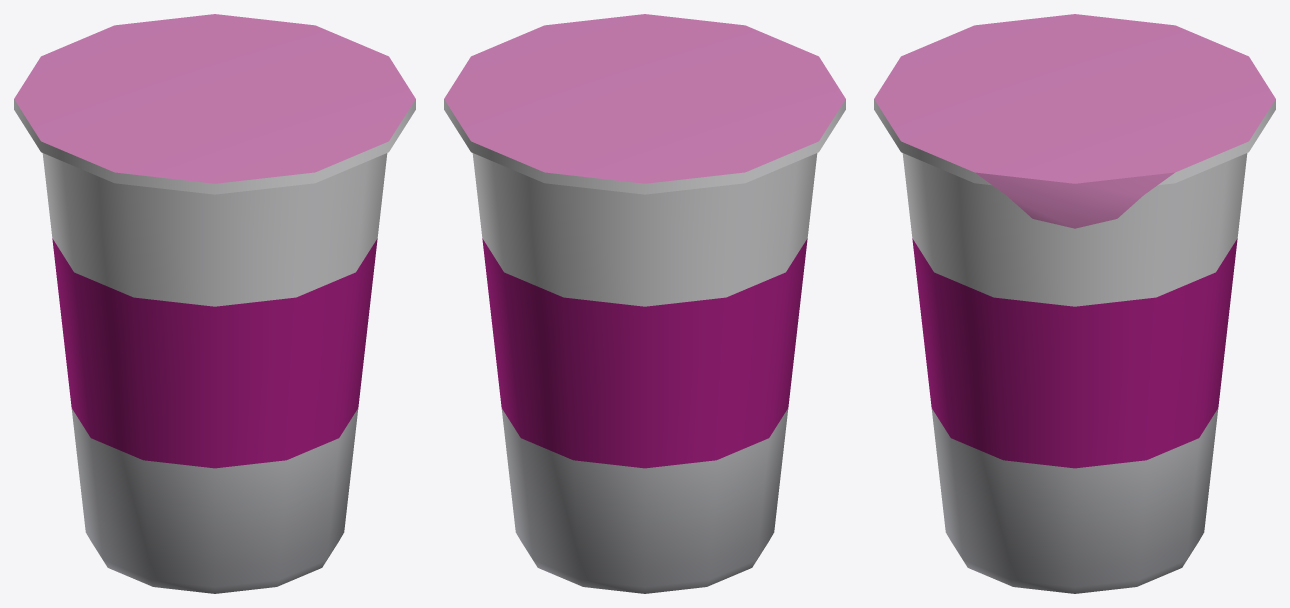
The model's file is Yogurt_big_01.fbx.
The picture shows the model from 3 angles, left to right: view 1: azimuth 30°, elevation 25°; view 2: azimuth 150°, elevation 25°; view 3: azimuth 270°, elevation 25°; orthographic projection.
Visible parts, largest first — view 1: Yogurt_big_01; view 2: Yogurt_big_01; view 3: Yogurt_big_01.
Boxes of the visible parts, left/top/right/bottom form: Yogurt_big_01: left=14, top=14, right=415, bottom=593; Yogurt_big_01: left=444, top=14, right=845, bottom=593; Yogurt_big_01: left=874, top=14, right=1275, bottom=593.
Size of the model in its own units: 109 by 107 by 132.
